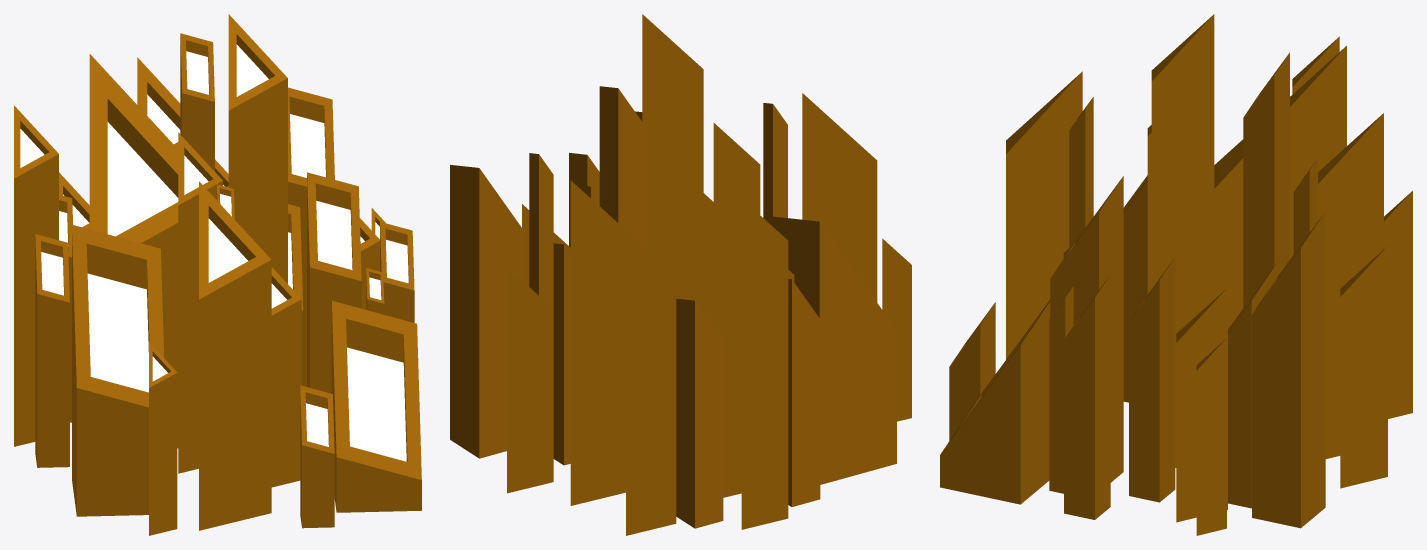
The model's file is Feature Spikes.fbx.
3 renders of one model, left to right at view 1: azimuth 30°, elevation 25°; view 2: azimuth 150°, elevation 25°; view 3: azimuth 270°, elevation 25°, orthographic. The views are drawn at different scales.
Visible parts, largest first — view 1: Feature Spikes; view 2: Feature Spikes; view 3: Feature Spikes.
Part boxes in pixels (x1,y1,x2,y2): Feature Spikes: [14, 14, 421, 535]; Feature Spikes: [450, 14, 911, 535]; Feature Spikes: [940, 14, 1412, 535].
Size of the model in its own units: 329 by 369 by 352.
